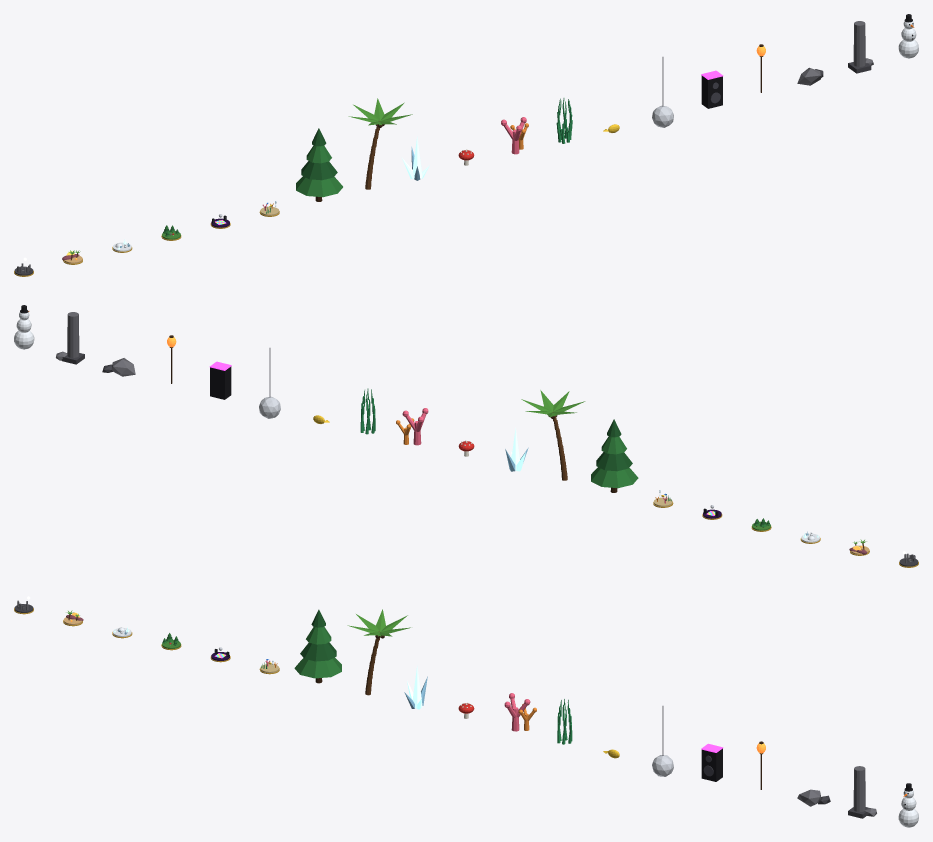
The model's file is noten-raum.glb.
The picture shows the model from 3 angles, top to bottom: view 1: azimuth 30°, elevation 25°; view 2: azimuth 150°, elevation 25°; view 3: azimuth 330°, elevation 25°; orthographic projection.
Parts seen in each view (by area): view 1: deco_pine, deco_palm, deco_speaker, deco_column, deco_snowman; view 2: deco_pine, deco_palm, deco_column, deco_speaker, deco_snowman; view 3: deco_pine, deco_palm, deco_column, deco_speaker, deco_snowman, deco_coral, deco_discoball, deco_seaweed.
Boxes of the visible parts, box(x1,y1,x2,y2) form: deco_pine: box(296, 128, 342, 201); deco_palm: box(348, 98, 412, 189); deco_speaker: box(701, 70, 723, 108); deco_column: box(848, 21, 873, 73); deco_snowman: box(898, 14, 918, 58); deco_pine: box(591, 419, 638, 492); deco_palm: box(521, 390, 585, 480); deco_column: box(56, 312, 84, 364); deco_speaker: box(209, 361, 231, 399); deco_snowman: box(14, 305, 34, 349); deco_pine: box(294, 609, 341, 683); deco_palm: box(347, 609, 410, 695); deco_column: box(848, 766, 876, 818); deco_speaker: box(701, 743, 723, 781); deco_snowman: box(898, 783, 918, 827); deco_coral: box(504, 693, 536, 731); deco_discoball: box(652, 706, 673, 776); deco_seaweed: box(557, 699, 572, 744).
Size of the model in its own units: 55.06 by 4.9 by 3.43.
